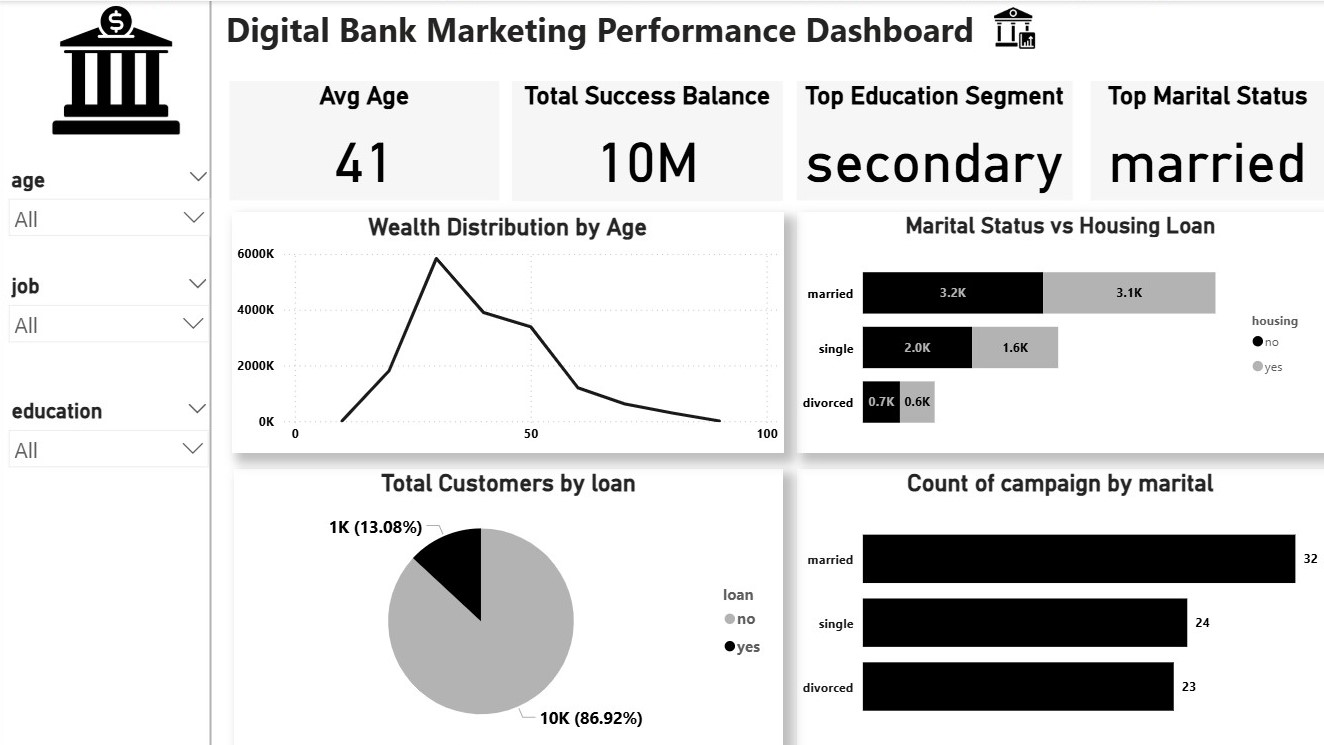

Layout of this report page (visuals, bound fields, positions):
{"tool":"powerbi","page":{"name":"Customer Profile","canvas":[1280,720],"ordinal":1},"visuals":[{"type":"card","title":"Avg Age","fields":{"Values":["Avg(bank.age)"]},"box":[223.7,76.8,260.7,115.3],"z":0},{"type":"shape","box":[51.9,0,306.4,720.2],"z":1000},{"type":"card","title":"Total Success Balance","fields":{"Values":["bank.Total Balance"]},"box":[495.8,77.2,261.8,115.8],"z":2000},{"type":"textbox","box":[214.7,0,839.7,61.5],"z":3000},{"type":"card","title":"Top Education Segment","fields":{"Values":["Min(bank.education)"]},"box":[771.2,76.8,266.2,115.3],"z":4000},{"type":"barChart","title":"Count of campaign by marital","fields":{"Category":["bank.marital"],"Y":["Count(bank.campaign)"]},"box":[771.2,451.5,509.1,266.2],"z":5000},{"type":"barChart","title":"Marital Status vs Housing Loan","fields":{"Category":["bank.marital"],"Y":["bank.Total Customers"],"Series":["bank.housing"]},"box":[770.9,203.9,509.1,231.6],"z":6000},{"type":"lineChart","title":"Wealth Distribution by Age","fields":{"Category":["bank.age (bins) 2"],"Y":["Sum(bank.balance)"]},"box":[225,204.5,532.4,231.9],"z":7000},{"type":"slicer","fields":{"Values":["bank.age (bins) 2"]},"box":[0,155.6,214.7,144.8],"z":8000},{"type":"slicer","fields":{"Values":["bank.job"]},"box":[0,258,214.1,144.1],"z":9000},{"type":"pieChart","fields":{"Y":["bank.Total Customers"],"Category":["bank.loan"]},"box":[228,451.2,529.6,269],"z":10000},{"type":"card","title":"Top Marital Status","fields":{"Values":["Min(bank.marital)"]},"box":[1053.9,76.8,226.4,115.3],"z":11000},{"type":"slicer","fields":{"Values":["bank.education"]},"box":[0,378.8,213.5,129.1],"z":12000},{"type":"image","box":[831.2,0,300.4,51.9],"z":14000},{"type":"image","box":[0,0,228,133.9],"z":14001}]}

Visuals, with their boxes in screenshot pixels (x1, y1, x2, y2), scaled from the page's 1280x720 canvas onto the 1324x745 screenshot:
"Avg Age" card: <box>231,79,501,199</box>
shape: <box>54,0,371,744</box>
"Total Success Balance" card: <box>513,80,784,200</box>
textbox: <box>222,0,1091,64</box>
"Top Education Segment" card: <box>798,79,1073,199</box>
"Count of campaign by marital" barChart: <box>798,467,1323,743</box>
"Marital Status vs Housing Loan" barChart: <box>797,211,1323,451</box>
"Wealth Distribution by Age" lineChart: <box>233,212,783,452</box>
slicer - bank.age (bins) 2: <box>0,161,222,311</box>
slicer - bank.job: <box>0,267,221,416</box>
pieChart - bank.Total Customers x bank.loan: <box>236,467,784,744</box>
"Top Marital Status" card: <box>1090,79,1323,199</box>
slicer - bank.education: <box>0,392,221,526</box>
image: <box>860,0,1170,54</box>
image: <box>0,0,236,139</box>
